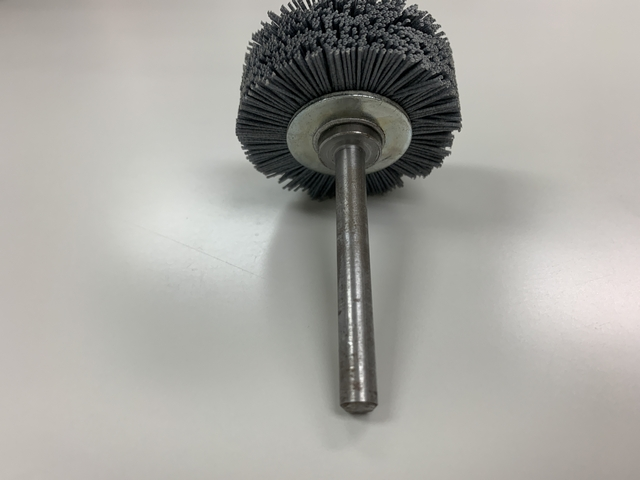Wheel Brush: (229, 5, 481, 450), (239, 1, 441, 426)
